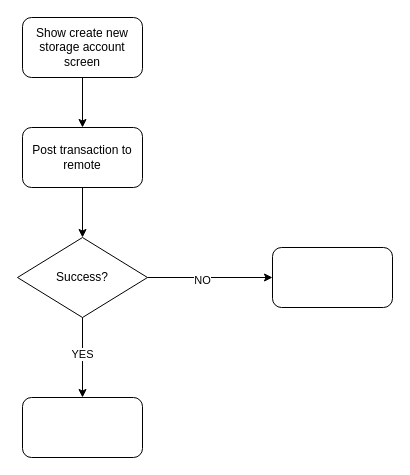
Some shapes in this 410 by 475 pixel diagram are drawn without their labels. The shapes that lost their labels are listed below. From the top down, each one's centre as x and y in pixels, then its label:
point 332,277: Display error
point 82,427: Cache storage account
